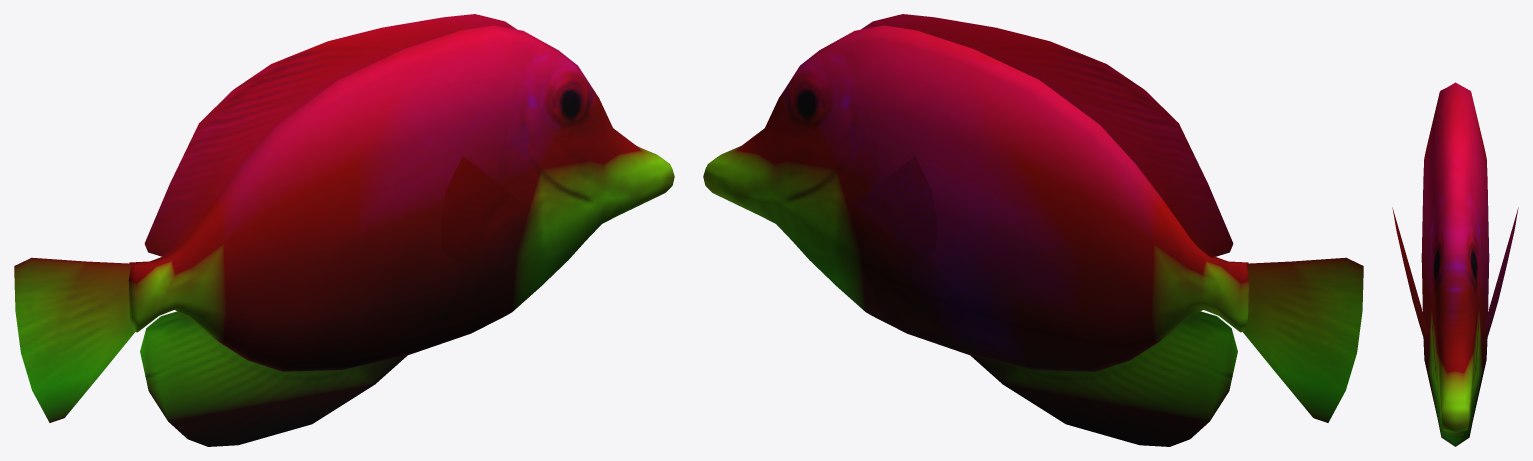
The model's file is yellow_tang.glb.
The picture shows the model from 3 angles, left to right: view 1: azimuth 30°, elevation 25°; view 2: azimuth 150°, elevation 25°; view 3: azimuth 270°, elevation 25°; orthographic projection.
Visible parts, largest first — view 1: YellowTang; view 2: YellowTang; view 3: YellowTang.
Boxes of the visible parts, bbox=[...] form: YellowTang: bbox=[14, 14, 674, 446]; YellowTang: bbox=[703, 14, 1363, 446]; YellowTang: bbox=[1392, 82, 1518, 446].
Bounding box in the file's own units: 1 × 0.5549 × 0.1636.
1 material, 1 textured.
